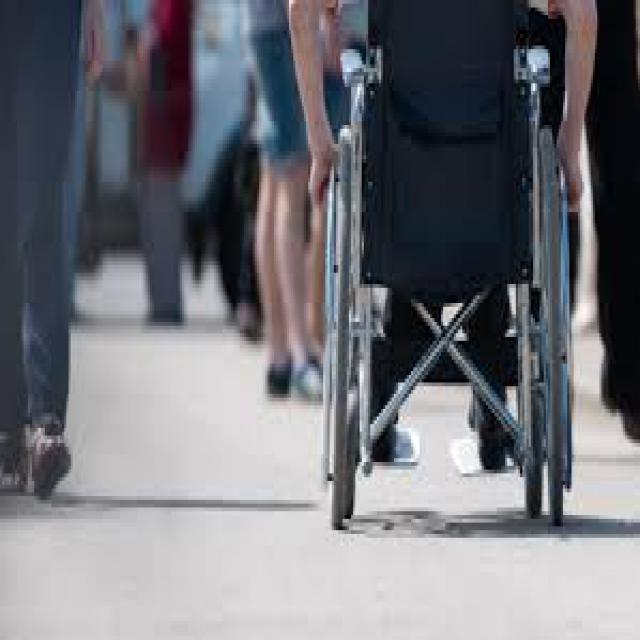wheelchairs: (306, 0, 587, 523)
